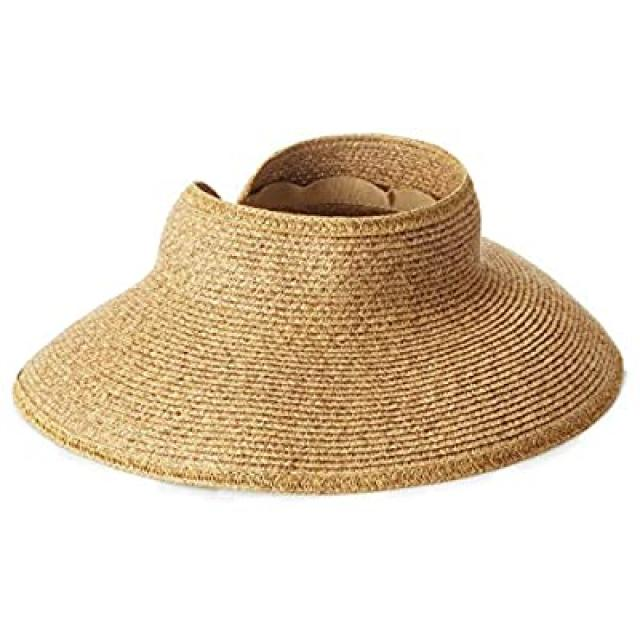hat: (3, 123, 635, 499)
